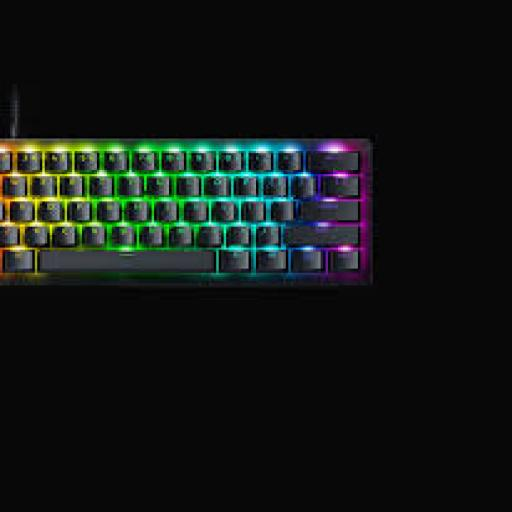KEYBOARD-2: (0, 138, 370, 281)
